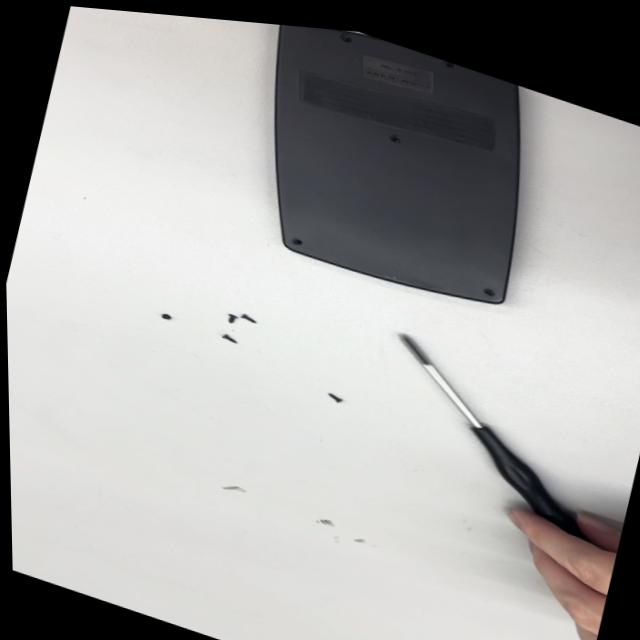back_cover: (220, 20, 556, 331)
screw: (237, 309, 270, 330), (321, 385, 348, 409), (213, 306, 242, 328), (216, 331, 244, 351), (154, 308, 175, 327)
screw_driver: (348, 324, 614, 547)
